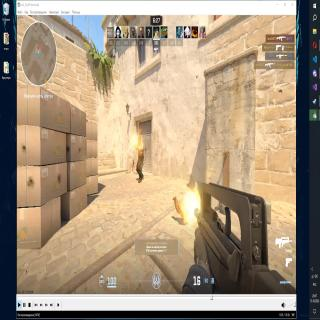T-Body: (134, 134, 146, 182)
T-Head: (137, 132, 142, 144)
